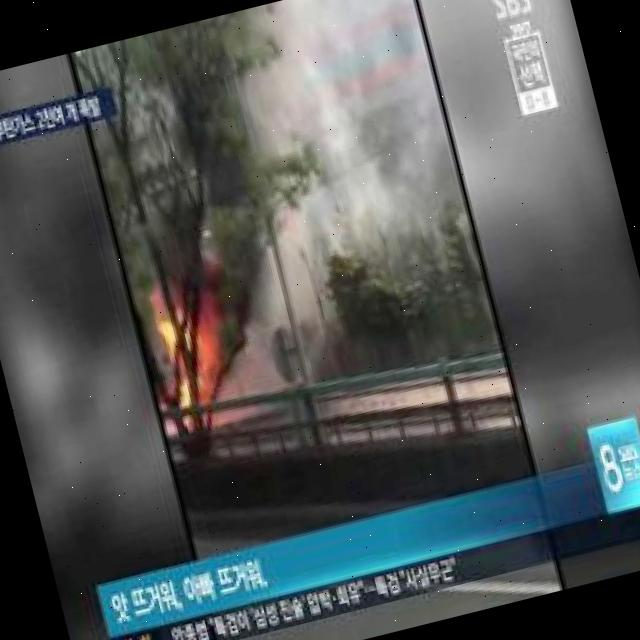fire: (150, 292, 232, 437)
